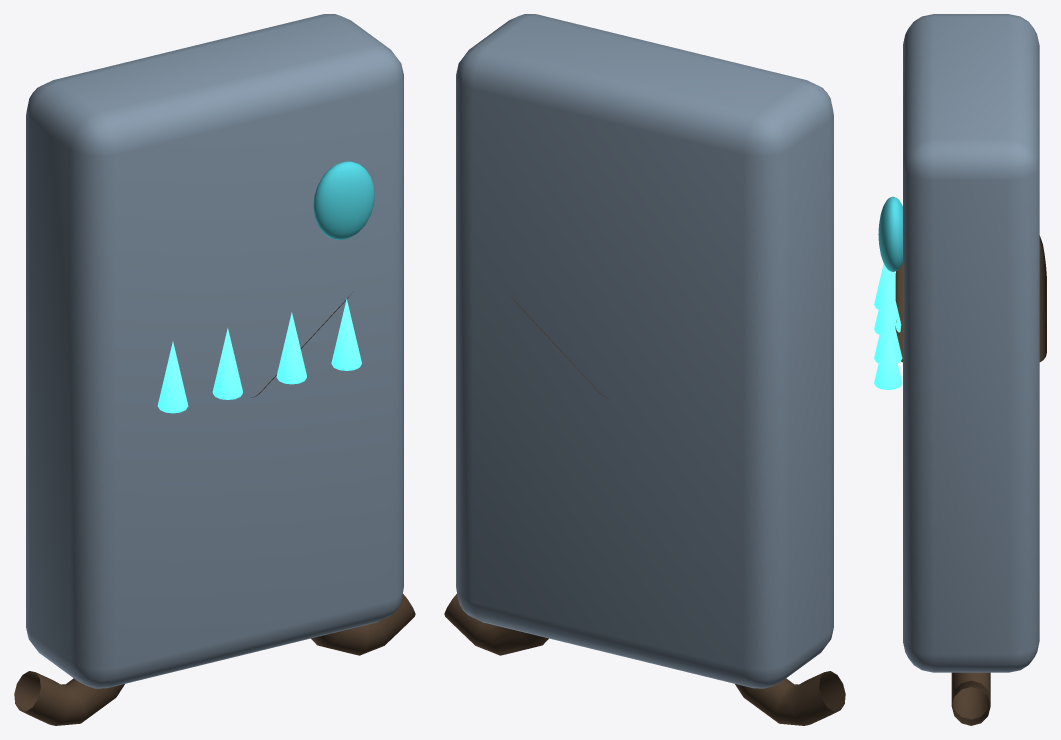
Rendered from mimic_v4.glb.
3 views of the same model, side by side, from view 1: azimuth 30°, elevation 25°; view 2: azimuth 150°, elevation 25°; view 3: azimuth 270°, elevation 25° (orthographic). The views are drawn at different scales.
Parts seen in each view (by area): view 1: DOOR_BODY_PRIMARY, DOOR_EYE_ACCENT, DOOR_LEG_SECONDARY, DOOR_LEG_SECONDARY.001, DOOR_TOOTH_EMISSIVE, DOOR_TOOTH_EMISSIVE.003, DOOR_TOOTH_EMISSIVE.002, DOOR_TOOTH_EMISSIVE.001; view 2: DOOR_BODY_PRIMARY, DOOR_LEG_SECONDARY, DOOR_LEG_SECONDARY.001; view 3: DOOR_BODY_PRIMARY, DOOR_LEG_SECONDARY.001, DOOR_EYE_ACCENT, DOOR_MOUTH_SECONDARY, DOOR_TOOTH_EMISSIVE.003, DOOR_TOOTH_EMISSIVE.001, DOOR_TOOTH_EMISSIVE.002, DOOR_TOOTH_EMISSIVE.
Part boxes in pixels (x1,y1,x2,y2): DOOR_BODY_PRIMARY: [26, 14, 403, 688]; DOOR_EYE_ACCENT: [313, 161, 374, 239]; DOOR_LEG_SECONDARY: [14, 671, 124, 725]; DOOR_LEG_SECONDARY.001: [311, 594, 415, 655]; DOOR_TOOTH_EMISSIVE: [157, 341, 188, 413]; DOOR_TOOTH_EMISSIVE.003: [331, 299, 361, 370]; DOOR_TOOTH_EMISSIVE.002: [276, 312, 306, 384]; DOOR_TOOTH_EMISSIVE.001: [212, 328, 242, 399]; DOOR_BODY_PRIMARY: [456, 14, 833, 688]; DOOR_LEG_SECONDARY: [735, 671, 845, 725]; DOOR_LEG_SECONDARY.001: [444, 594, 548, 655]; DOOR_BODY_PRIMARY: [903, 14, 1039, 672]; DOOR_LEG_SECONDARY.001: [951, 672, 990, 725]; DOOR_EYE_ACCENT: [878, 196, 902, 271]; DOOR_MOUTH_SECONDARY: [895, 235, 1046, 362]; DOOR_TOOTH_EMISSIVE.003: [874, 323, 902, 389]; DOOR_TOOTH_EMISSIVE.001: [874, 270, 901, 334]; DOOR_TOOTH_EMISSIVE.002: [874, 298, 902, 363]; DOOR_TOOTH_EMISSIVE: [874, 263, 895, 309].
Bounding box in the file's own units: 1.34 × 2.04 × 0.5521.
